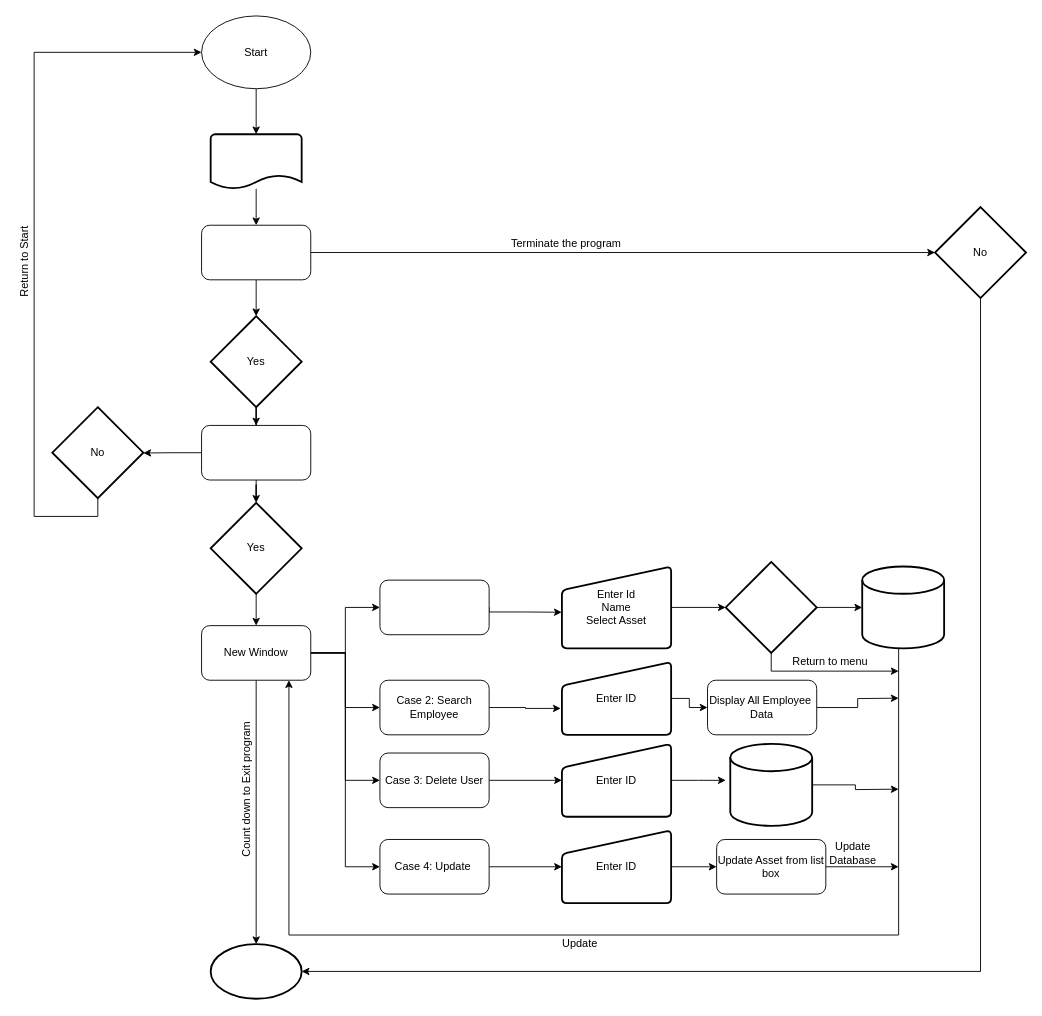
Some shapes in this 1042 by 1016 pixel diagram are drawn without their labels. Each missing label, with the box of its shape:
Accept?: (201, 224, 311, 280)
Case 1: Create new Asset: (379, 579, 489, 635)
Delete from database: (729, 743, 813, 826)
End: (209, 943, 302, 999)
Log in: (201, 425, 311, 480)
LSEPI: (209, 133, 302, 189)
Save to Database: (861, 565, 945, 649)
Save?: (724, 561, 817, 653)
